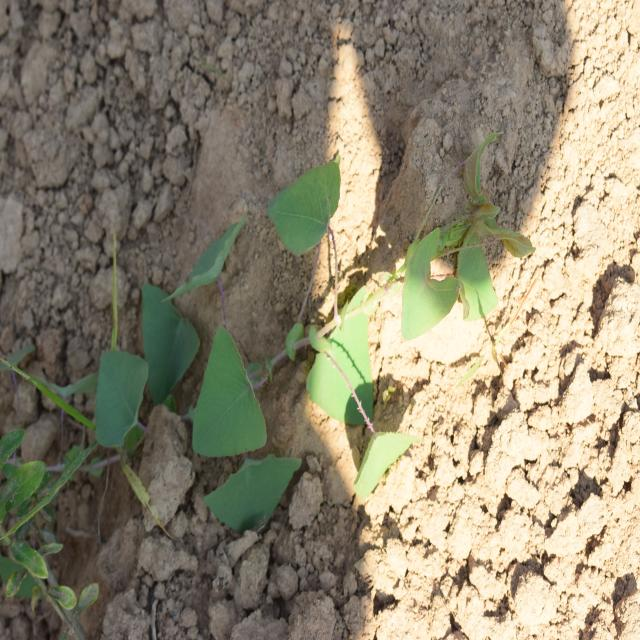Asiatic_Smartweed: (78, 215, 295, 540), (276, 143, 404, 487), (401, 125, 532, 343)
